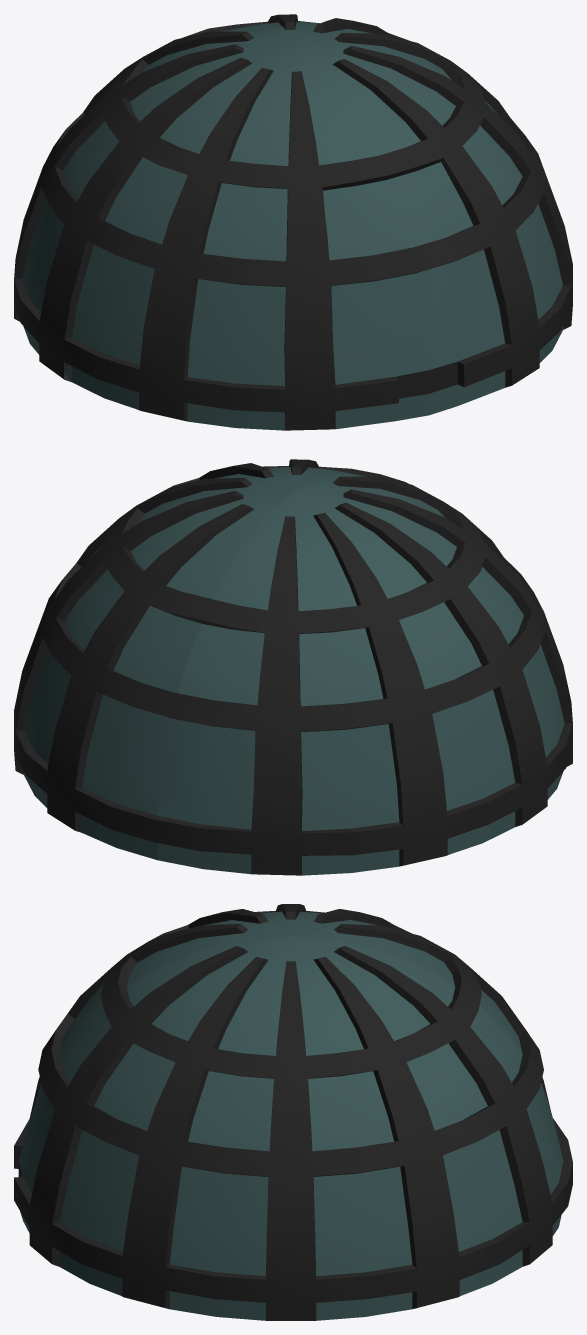
Rendered from Unwrapped_Biodome 1.fbx.
3 renders of one model, top to bottom at view 1: azimuth 30°, elevation 25°; view 2: azimuth 150°, elevation 25°; view 3: azimuth 270°, elevation 25°, orthographic.
Parts seen in each view (by area): view 1: Biodome_Framing_ND, Biodome_Windows_ND; view 2: Biodome_Framing_ND, Biodome_Windows_ND; view 3: Biodome_Framing_ND, Biodome_Windows_ND.
Part boxes in pixels (bbox=[...]): Biodome_Framing_ND: bbox=[14, 14, 572, 430]; Biodome_Windows_ND: bbox=[22, 22, 563, 430]; Biodome_Framing_ND: bbox=[14, 459, 572, 875]; Biodome_Windows_ND: bbox=[23, 467, 564, 875]; Biodome_Framing_ND: bbox=[14, 904, 572, 1320]; Biodome_Windows_ND: bbox=[19, 911, 563, 1320].
Bounding box in the file's own units: 8.7 × 4.63 × 8.7.
